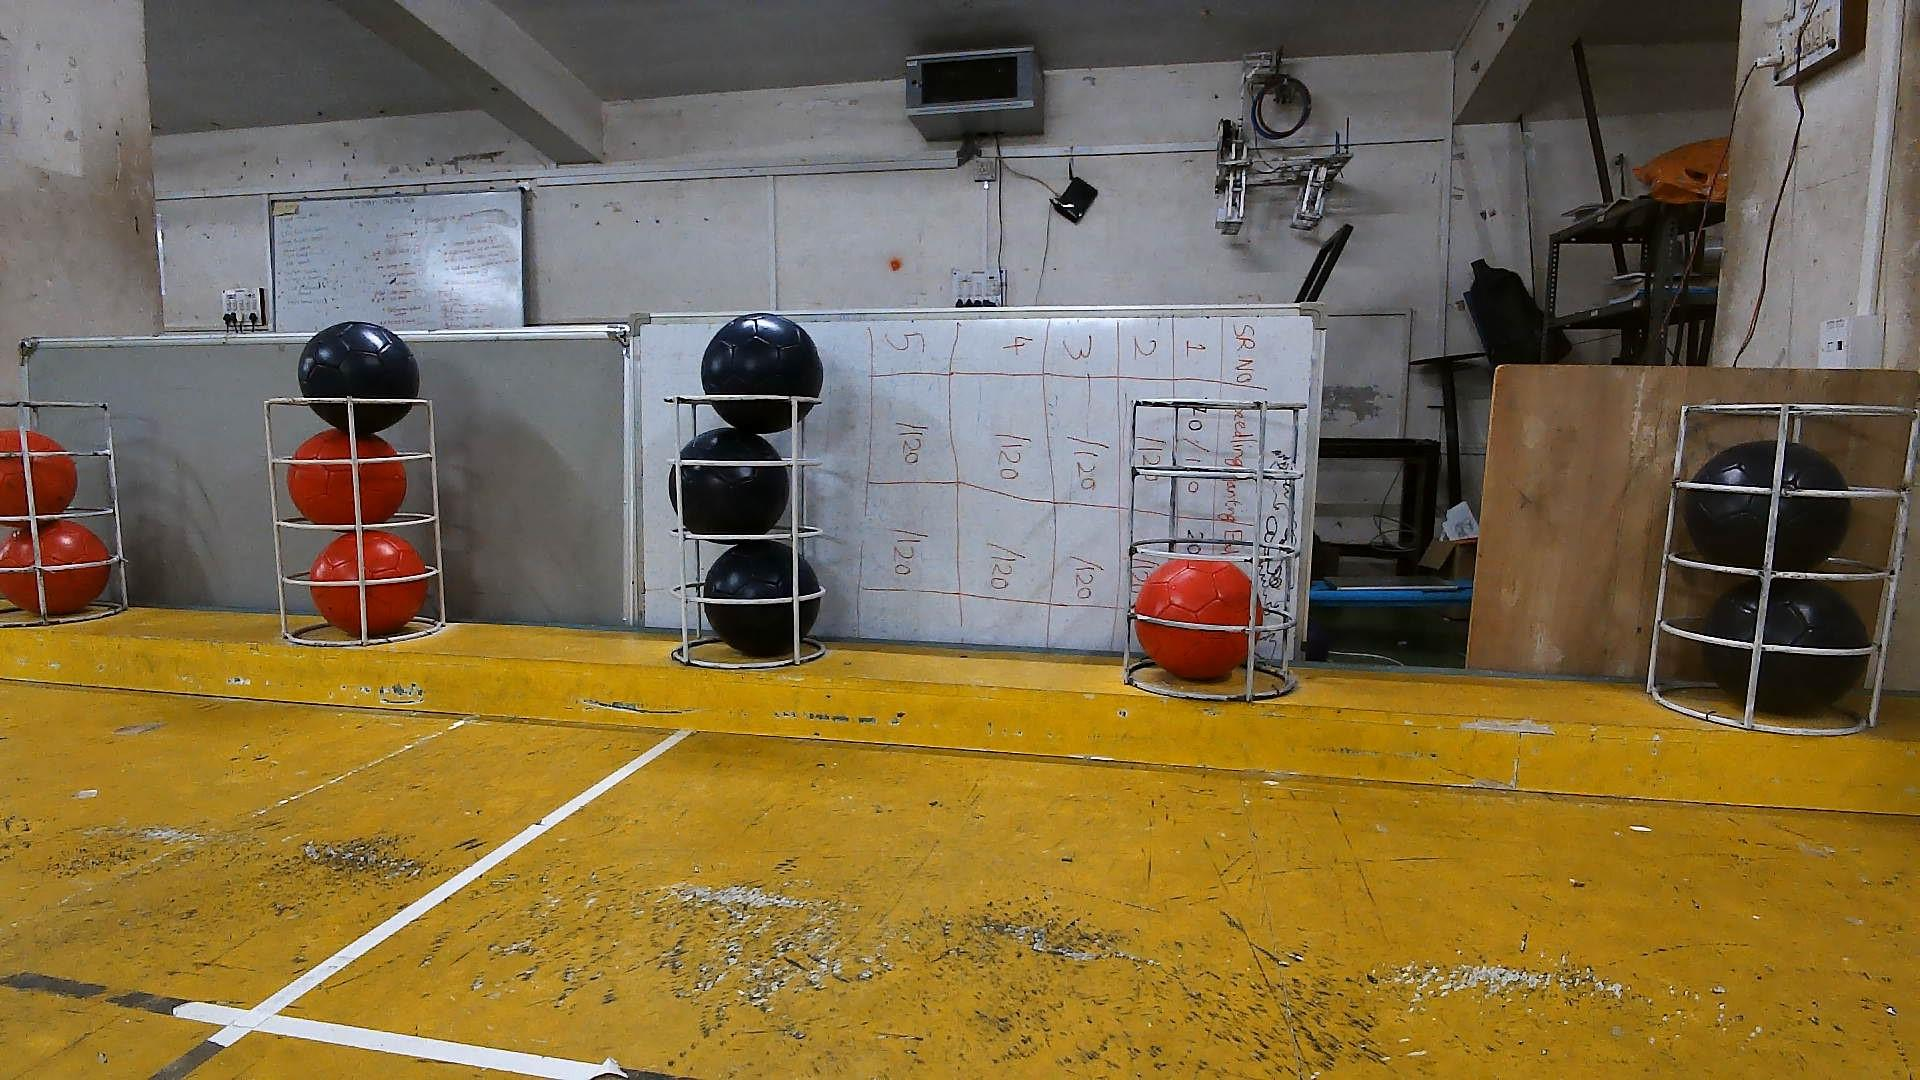dhoka: (1694, 576, 1862, 718), (1680, 439, 1852, 570), (701, 311, 825, 435), (701, 540, 821, 660), (296, 322, 420, 435), (668, 428, 791, 536)
laale: (1132, 559, 1249, 682), (308, 532, 428, 638), (289, 431, 409, 525), (0, 521, 109, 615), (0, 428, 79, 518)
